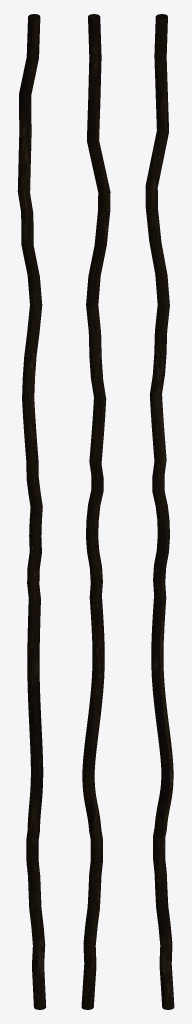
File: Cable02.fbx
3 views of the same model, side by side, from view 1: azimuth 30°, elevation 25°; view 2: azimuth 150°, elevation 25°; view 3: azimuth 330°, elevation 25° (orthographic).
Visible parts, largest first — view 1: Plane (18); view 2: Plane (18); view 3: Plane (18).
Part boxes in pixels (bbox=[...]): Plane (18): bbox=[17, 14, 46, 1009]; Plane (18): bbox=[81, 14, 110, 1009]; Plane (18): bbox=[145, 14, 174, 1009].
Size of the model in its own units: 20.22 by 708 by 16.82.
